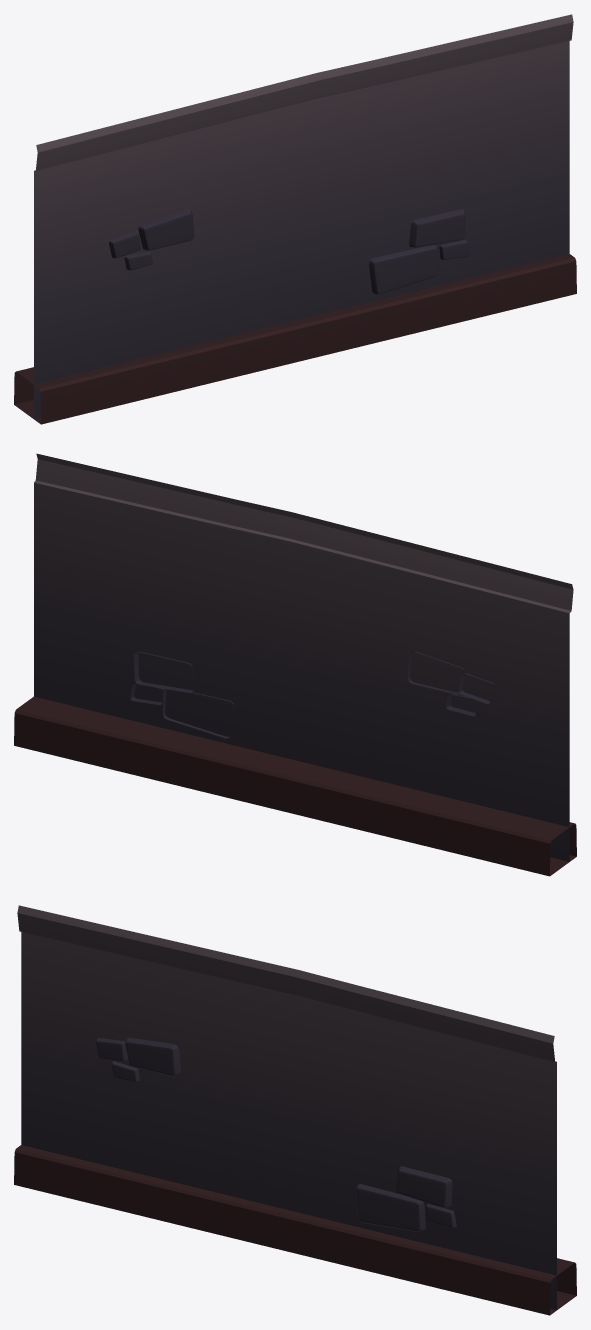
The model's file is SM_Wall_Tall.fbx.
3 views of the same model, one above another, from view 1: azimuth 30°, elevation 25°; view 2: azimuth 150°, elevation 25°; view 3: azimuth 330°, elevation 25° (orthographic).
Parts seen in each view (by area): view 1: SM_Wall; view 2: SM_Wall; view 3: SM_Wall.
Part boxes in pixels (x1=…): SM_Wall: x1=14, y1=14, x2=576, y2=424; SM_Wall: x1=14, y1=453, x2=576, y2=876; SM_Wall: x1=14, y1=905, x2=576, y2=1315.
Size of the model in its own units: 400 by 199 by 35.
Materials: 1 (1 with a texture image).
